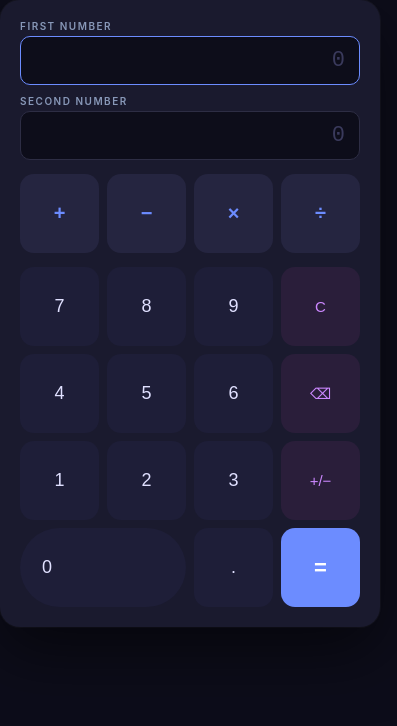
Test: Integration — addition › performs addition end-to-end and displays the result
Type "5" into the field with test id "first-input" at (190, 60), box [20,36,360,85]
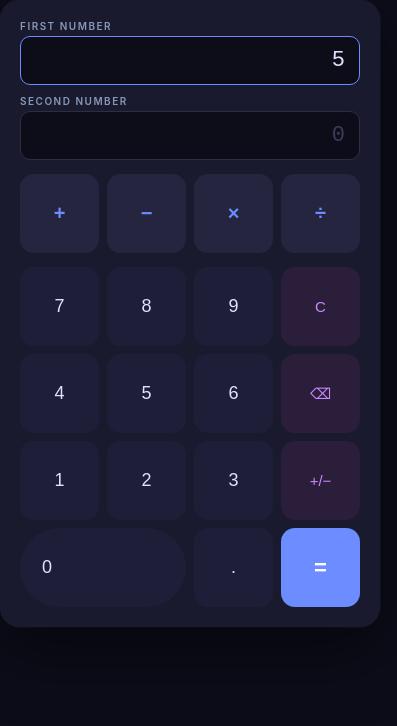
Click the button with test id "op-add" at (60, 214), box [20,174,99,253]
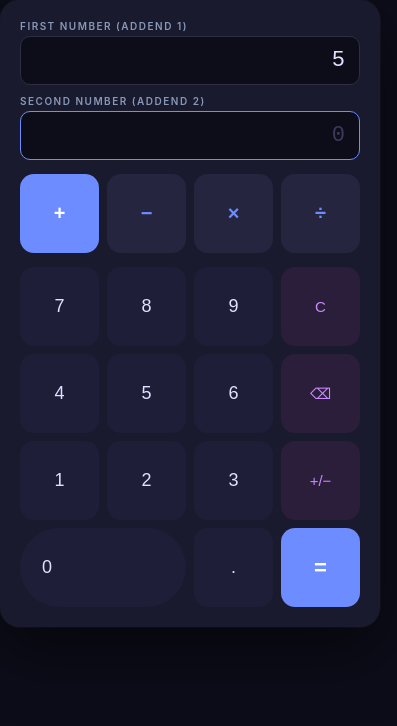
Type "3" into the field with test id "second-input" at (190, 136), box [20,111,360,160]
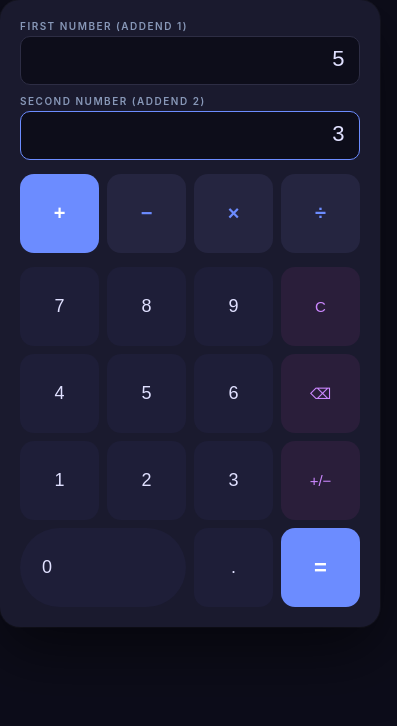
Click the button with test id "equals-btn" at (320, 568), box [281,528,360,607]
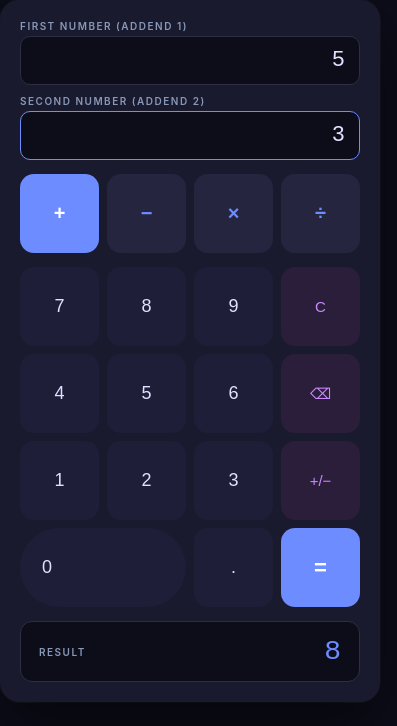
Expected: the text with test id "result-value" reads "8", [324,636,341,667]
